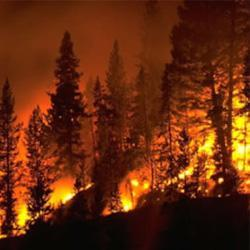fire: (233, 117, 250, 171), (49, 187, 73, 204), (199, 138, 214, 155), (16, 207, 28, 227), (119, 197, 132, 211)
smoke: (3, 11, 58, 72), (79, 4, 127, 44)
